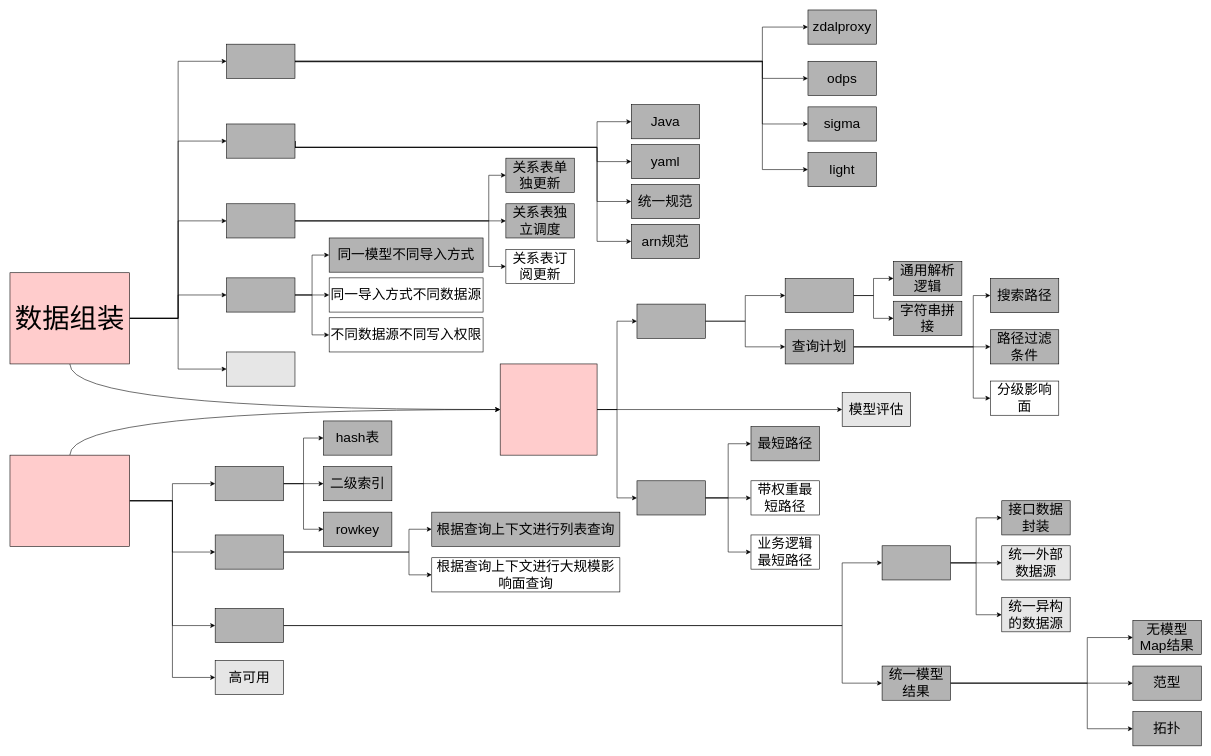
This 1211x756 diagram has some shape labels left out. Each missing label, with the box of its shape:
关系: (226, 203, 295, 238)
参数解析: (785, 278, 854, 313)
可编程: (636, 304, 705, 338)
复合导入: (226, 277, 295, 312)
影响面: (500, 363, 597, 455)
性能优化: (215, 466, 284, 501)
数据吐出: (215, 608, 284, 643)
数据拉取客户端: (226, 44, 295, 78)
数据查询: (9, 455, 130, 546)
数据模型: (226, 123, 295, 158)
数据质量: (226, 351, 295, 386)
根据上下文查询: (215, 534, 284, 569)
统一查询接口: (882, 545, 950, 580)
自动发现: (636, 480, 705, 515)
